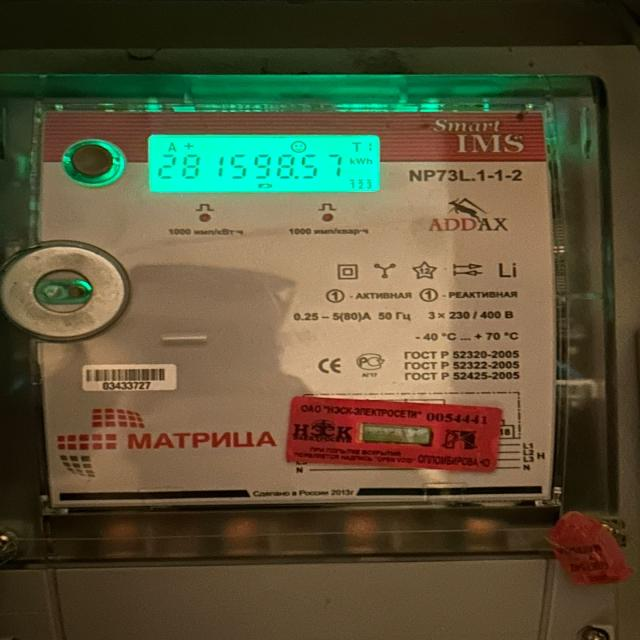Display: (148, 138, 383, 194)
meter_matrica: (32, 104, 567, 515)
meter_number: (83, 364, 177, 392)
seal_imp: (284, 395, 503, 471)
